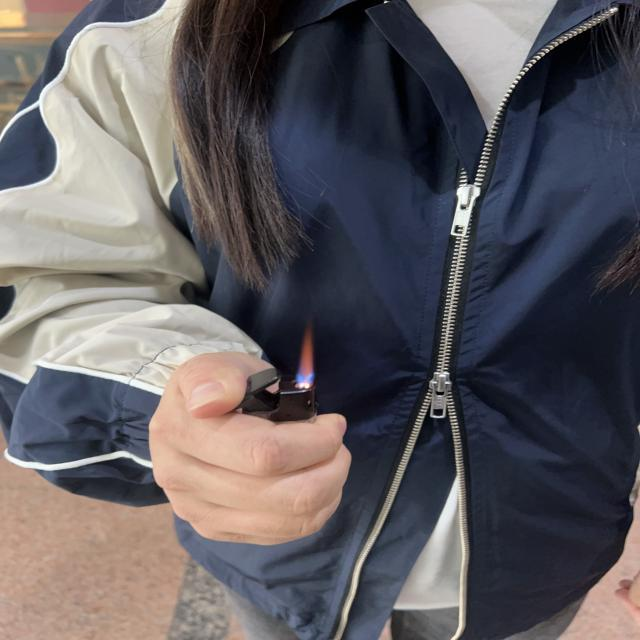fire: (294, 322, 316, 388)
